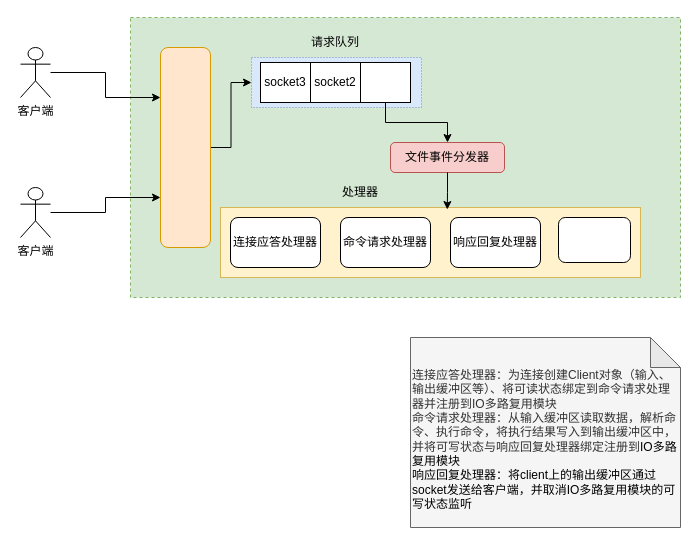
The diagram is 698 pixels wide and 545 high, and some of its shapes have lost their labels. The centre of each missing label's shape, as x and y in pixels:
".....处理器" goes at point 594,239.
"IO多路复用" goes at point 185,147.
"socket1" goes at point 385,82.
